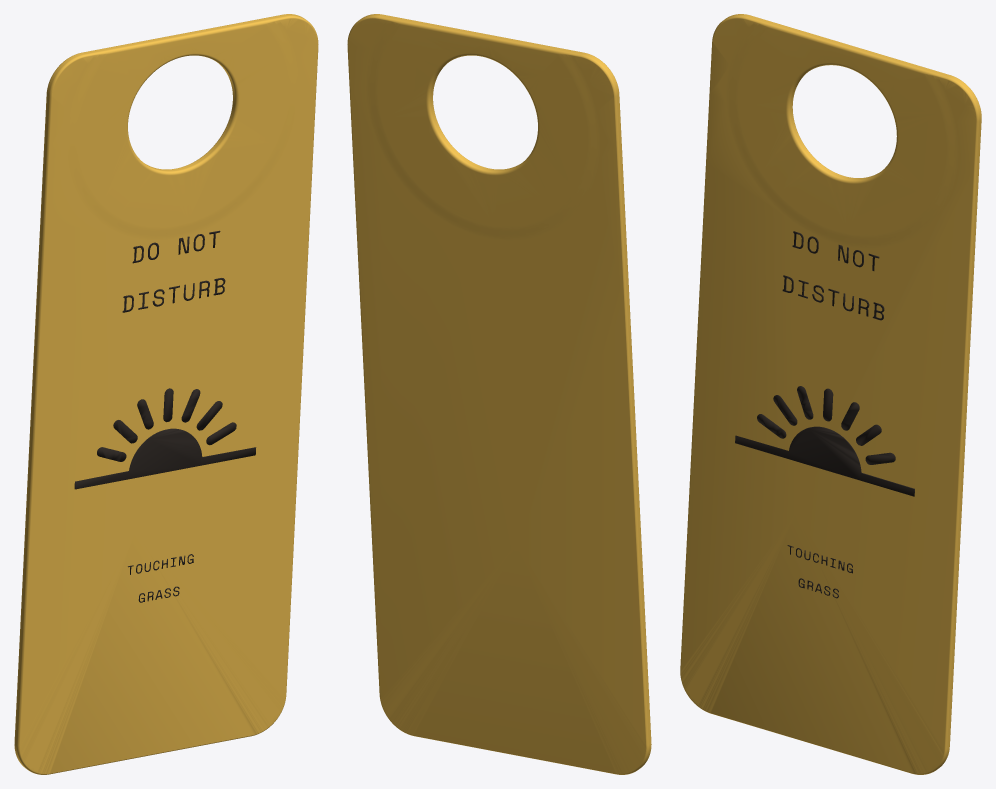
The model's file is do-not-disturb.glb.
3 renders of one model, left to right at view 1: azimuth 30°, elevation 25°; view 2: azimuth 150°, elevation 25°; view 3: azimuth 330°, elevation 25°, orthographic.
Parts seen in each view (by area): view 1: dnd-body, dnd-ink; view 2: dnd-body; view 3: dnd-body, dnd-ink.
Boxes of the visible parts, box(x1,y1,x2,y2) form: dnd-body: box(14, 14, 318, 774); dnd-ink: box(74, 230, 256, 602); dnd-body: box(347, 14, 651, 774); dnd-body: box(680, 14, 981, 774); dnd-ink: box(735, 231, 914, 598).
Size of the model in its own units: 0.1062 by 0.2434 by 0.00325.
